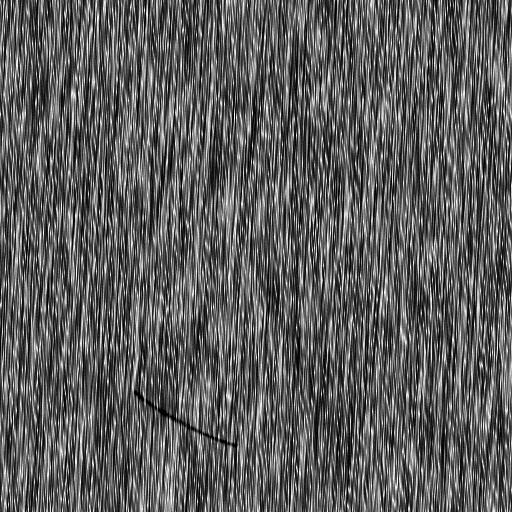scratch: (128, 384, 241, 458)
